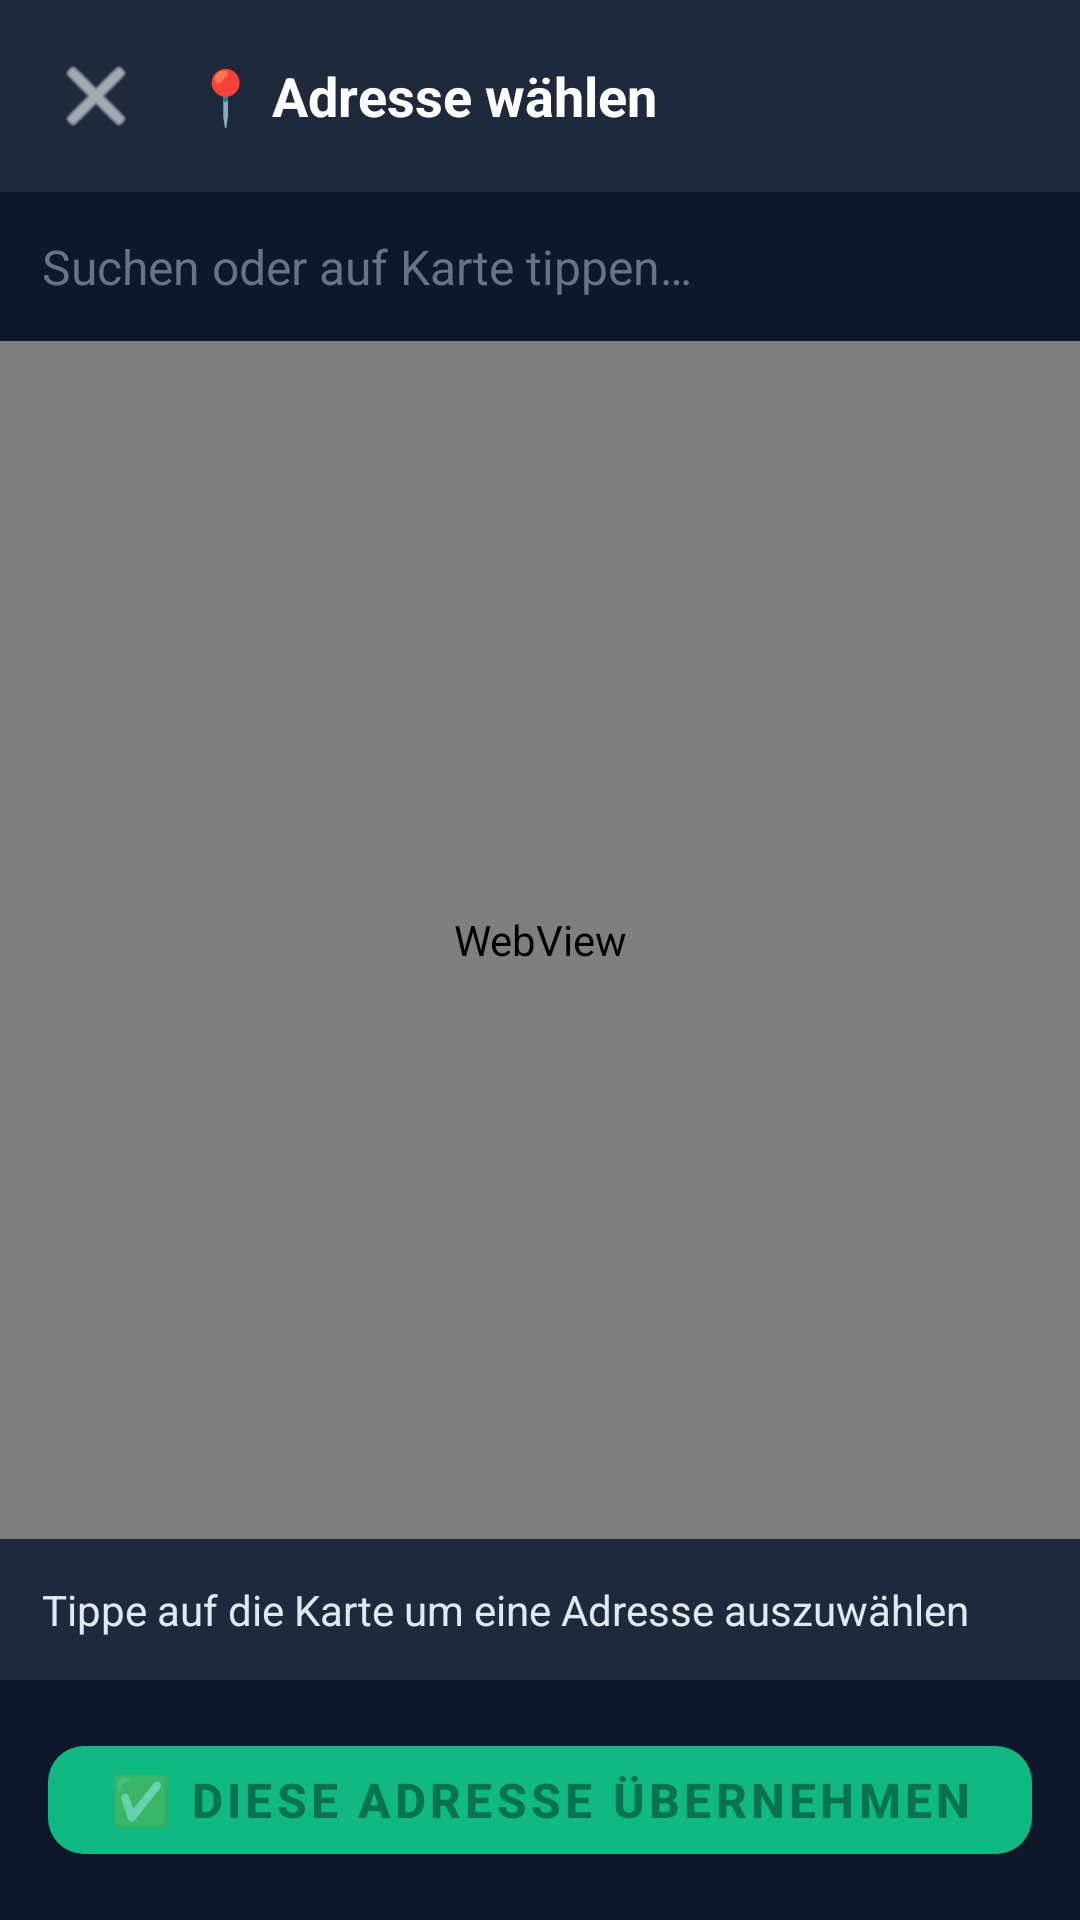

Point at icon controls on the screen. Image size 1080×1920, points as (x,y).
Schließen: (96,96)
